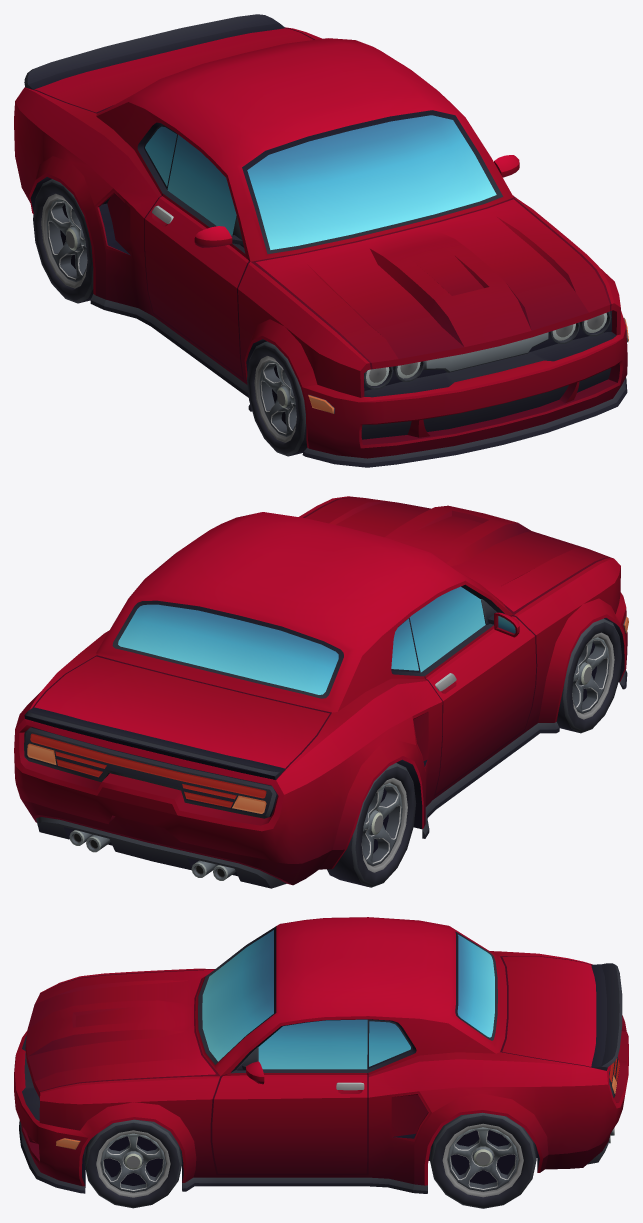
The model's file is ergoninane-fast-71.glb.
3 renders of one model, top to bottom at view 1: azimuth 30°, elevation 25°; view 2: azimuth 150°, elevation 25°; view 3: azimuth 270°, elevation 25°, orthographic. The views are drawn at different scales.
Parts seen in each view (by area): view 1: Hyper_GT_1; view 2: Hyper_GT_1; view 3: Hyper_GT_1.
Boxes of the visible parts, x1=… form: Hyper_GT_1: x1=14, y1=14, x2=628, y2=467; Hyper_GT_1: x1=14, y1=496, x2=628, y2=888; Hyper_GT_1: x1=14, y1=917, x2=628, y2=1208.
Size of the model in its own units: 2.47 by 1.65 by 4.72.
1 material, 1 textured.
